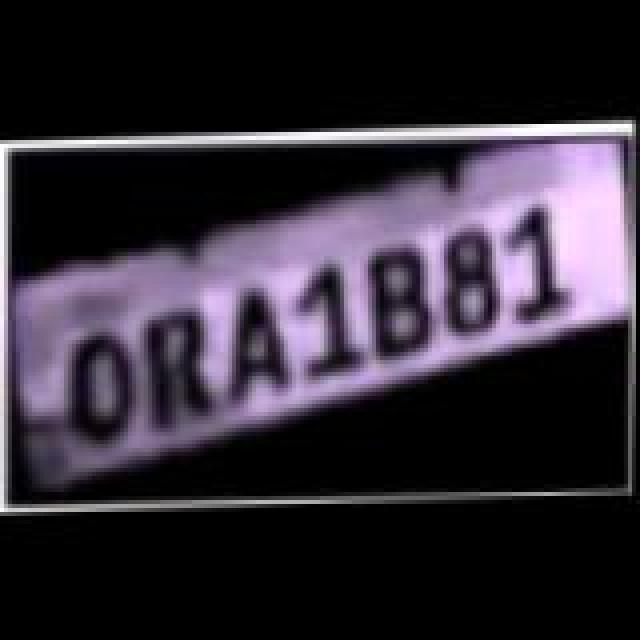1: (478, 204, 594, 328), (272, 260, 384, 380)
8: (416, 222, 528, 338)
A: (204, 284, 308, 408)
B: (352, 244, 464, 360)
O: (46, 330, 158, 442)
R: (122, 304, 238, 424)
